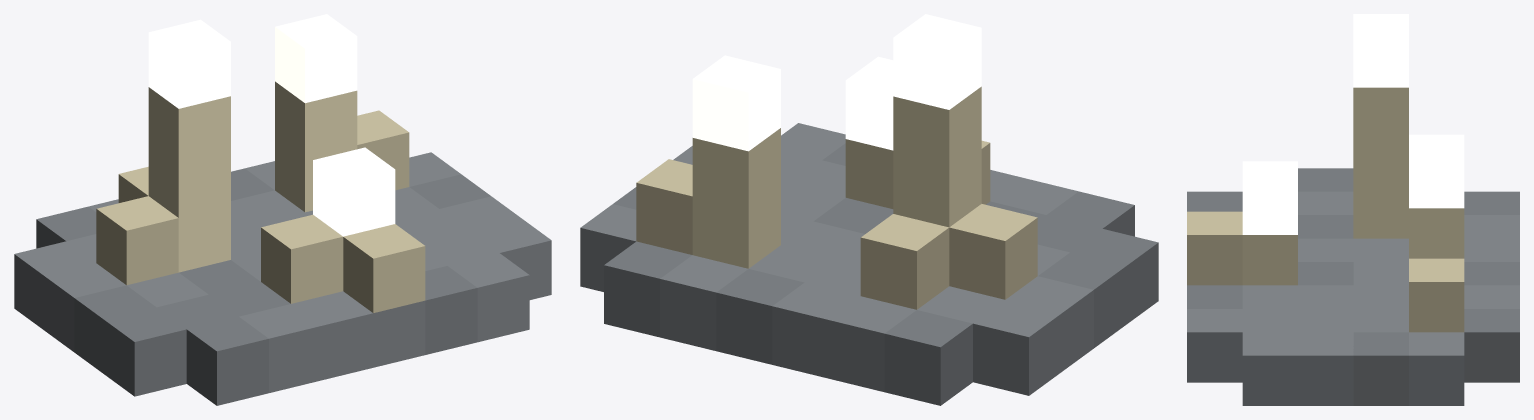
File: bougies.glb
The picture shows the model from 3 angles, left to right: view 1: azimuth 30°, elevation 25°; view 2: azimuth 150°, elevation 25°; view 3: azimuth 270°, elevation 25°; orthographic projection. The views are drawn at different scales.
Visible parts, largest first — view 1: voxel__bougies__ns; view 2: voxel__bougies__ns; view 3: voxel__bougies__ns.
Part boxes in pixels (left/top/right/bottom): voxel__bougies__ns: left=14, top=14, right=551, bottom=405; voxel__bougies__ns: left=580, top=14, right=1158, bottom=405; voxel__bougies__ns: left=1187, top=14, right=1519, bottom=405.
Bounding box in the file's own units: 0.4 × 0.25 × 0.3.
